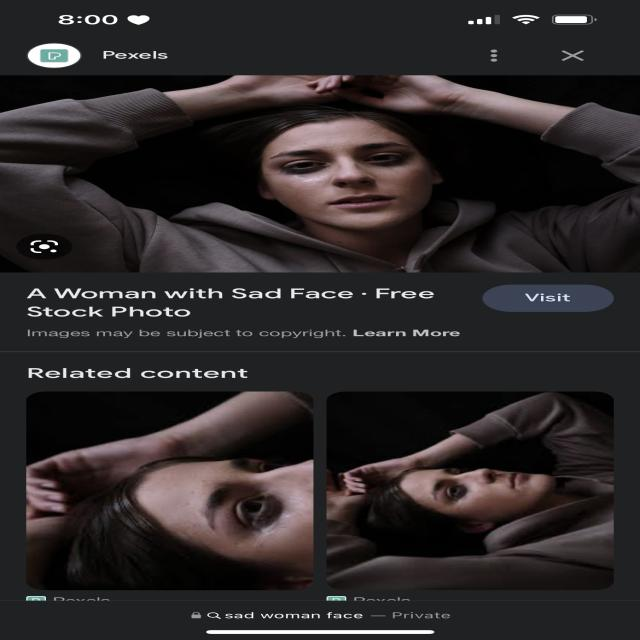natural: (257, 125, 456, 232)
